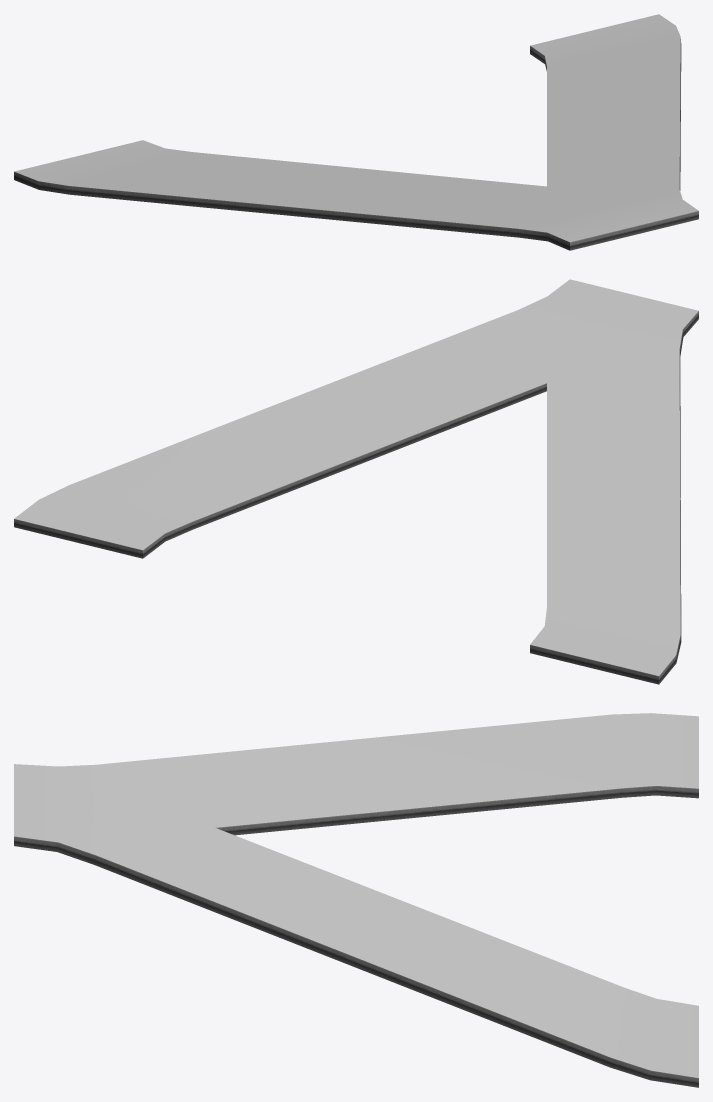
The model's file is ForkUp.fbx.
3 renders of one model, top to bottom at view 1: azimuth 30°, elevation 25°; view 2: azimuth 150°, elevation 25°; view 3: azimuth 270°, elevation 25°, orthographic. The views are drawn at different scales.
Visible parts, largest first — view 1: Empty_Mesh; view 2: Empty_Mesh; view 3: Empty_Mesh.
Part boxes in pixels (<box>): Empty_Mesh: <box>14,14,698,250</box>; Empty_Mesh: <box>14,279,698,684</box>; Empty_Mesh: <box>14,713,698,1087</box>.
Bounding box in the file's own units: 8000 × 1100 × 6400.
